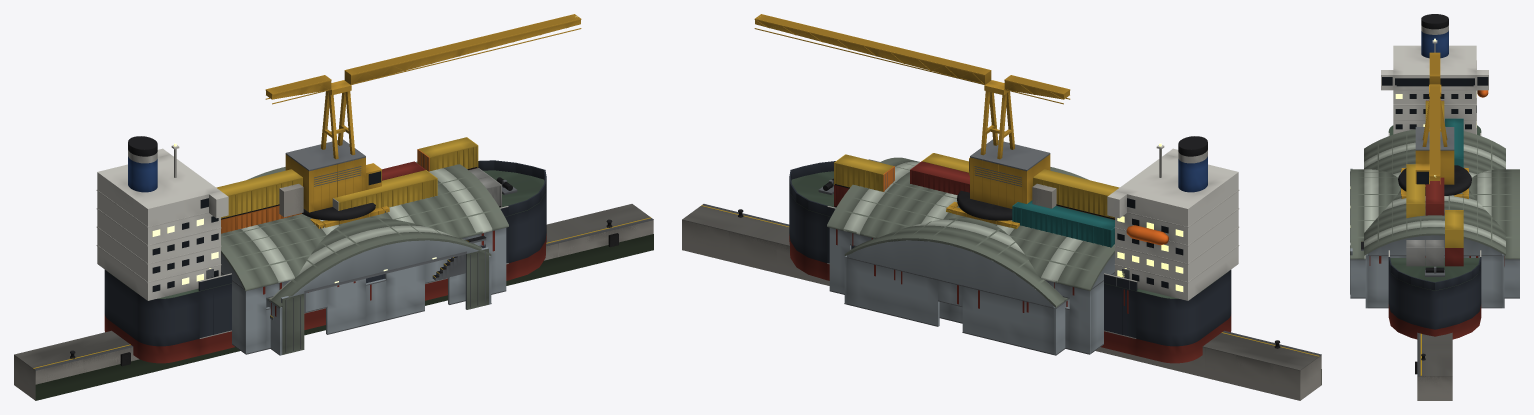
The model's file is harbor.glb.
3 views of the same model, side by side, from view 1: azimuth 30°, elevation 25°; view 2: azimuth 150°, elevation 25°; view 3: azimuth 270°, elevation 25° (orthographic). The views are drawn at different scales.
Parts seen in each view (by area): view 1: rh-ship, rh-warehouse, rh-crane, rh-quay, rh-hangar, rh-quay-lod, rh-warehouse-lod, rh-hangar-lod; view 2: rh-ship, rh-hangar, rh-warehouse, rh-crane, rh-quay, rh-quay-lod, rh-warehouse-lod, rh-ship-lod, rh-hangar-lod; view 3: rh-ship, rh-warehouse, rh-hangar, rh-crane, rh-quay, rh-warehouse-lod, rh-quay-lod, rh-hangar-lod, rh-ship-lod, rh-crane-lod.
Part boxes in pixels (bbox=[...]): rh-ship: bbox=[96, 136, 546, 363]; rh-warehouse: bbox=[221, 162, 508, 354]; rh-crane: bbox=[265, 14, 581, 228]; rh-quay: bbox=[14, 204, 653, 400]; rh-hangar: bbox=[247, 167, 491, 355]; rh-quay-lod: bbox=[14, 220, 653, 400]; rh-warehouse-lod: bbox=[221, 175, 500, 288]; rh-hangar-lod: bbox=[260, 174, 488, 307]; rh-ship: bbox=[789, 136, 1239, 363]; rh-hangar: bbox=[844, 167, 1088, 355]; rh-warehouse: bbox=[827, 157, 1114, 354]; rh-crane: bbox=[754, 14, 1070, 228]; rh-quay: bbox=[682, 204, 1321, 400]; rh-quay-lod: bbox=[682, 209, 1321, 400]; rh-warehouse-lod: bbox=[827, 157, 1114, 289]; rh-ship-lod: bbox=[824, 137, 1207, 247]; rh-hangar-lod: bbox=[844, 174, 1075, 307]; rh-ship: bbox=[1361, 14, 1488, 339]; rh-warehouse: bbox=[1364, 129, 1505, 308]; rh-hangar: bbox=[1350, 168, 1519, 298]; rh-crane: bbox=[1398, 52, 1471, 198]; rh-quay: bbox=[1415, 332, 1452, 400]; rh-warehouse-lod: bbox=[1364, 131, 1504, 254]; rh-quay-lod: bbox=[1415, 354, 1452, 400]; rh-hangar-lod: bbox=[1350, 172, 1519, 259]; rh-ship-lod: bbox=[1396, 14, 1488, 271]; rh-crane-lod: bbox=[1400, 166, 1469, 190].
Size of the model in its own units: 76 by 28.4 by 22.05.
